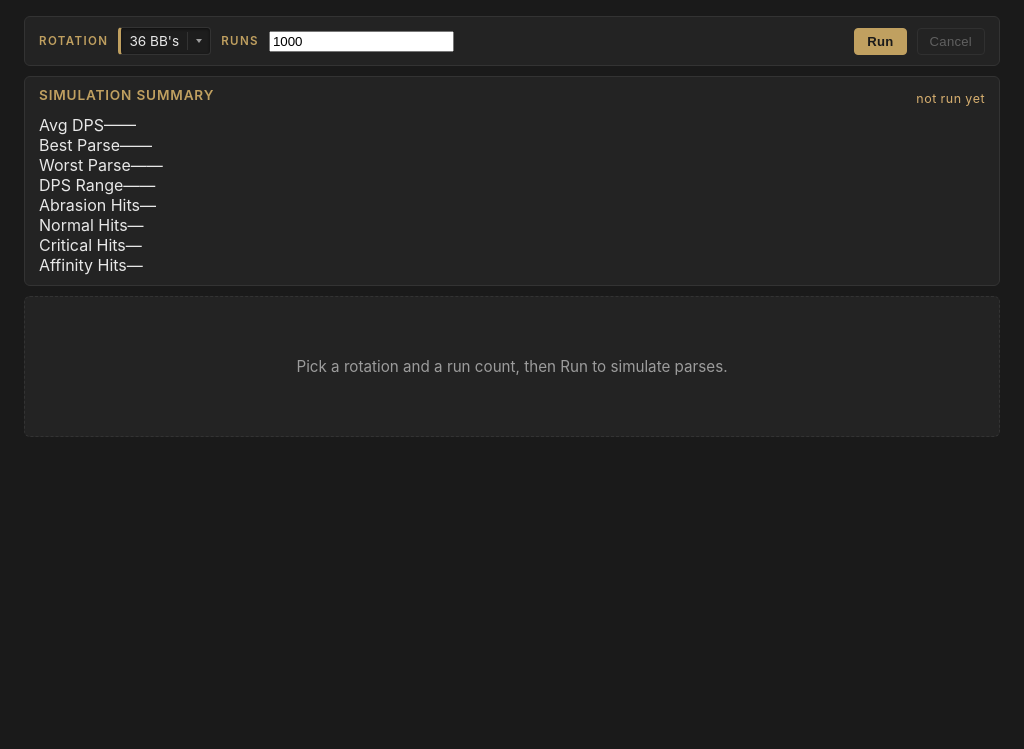
it: SimulationTab › warns that the result predates the current build once the rotation changes
Step 1. Click the button "Run" → (880, 41), box top-left (854, 28), bottom-right (907, 55)
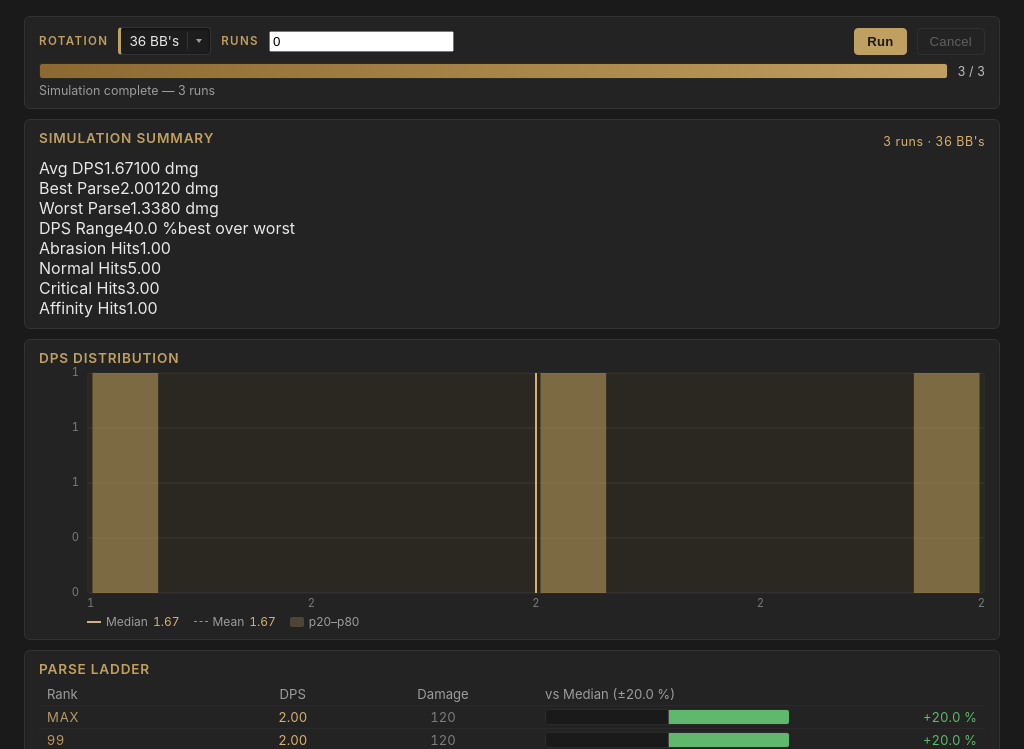
Expected: the text "Your build changed since this simulation — run it again" is not shown
Step 2. Click the dropdown named "Rotation" → (165, 41), box top-left (118, 27), bottom-right (211, 55)
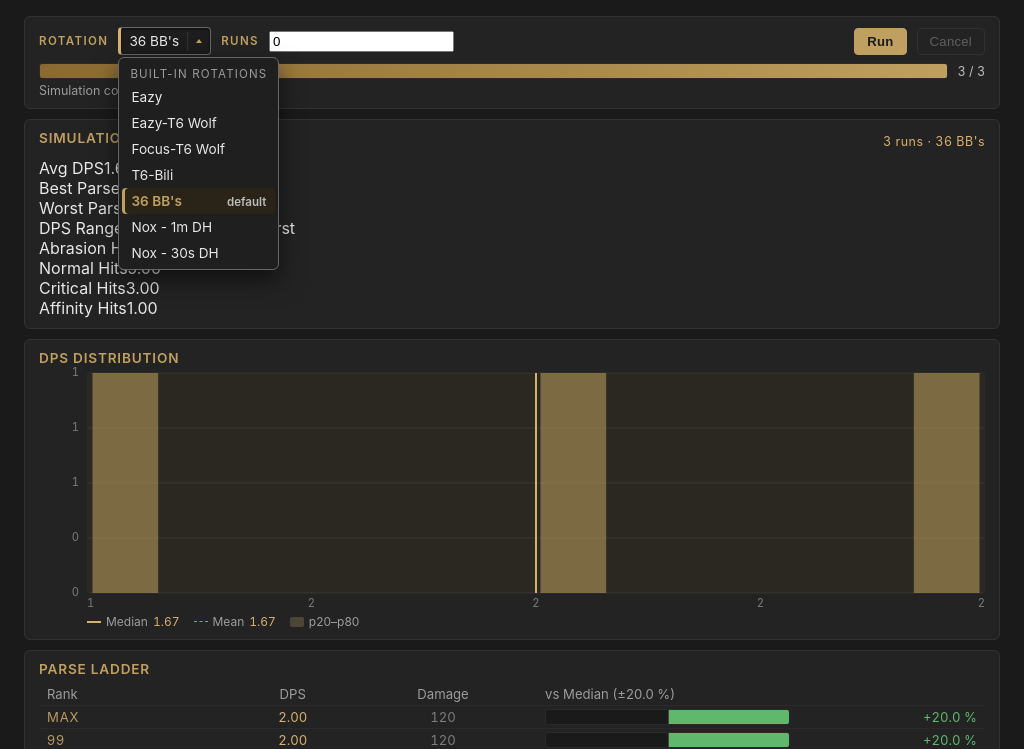
Step 3. Press the mouse on the option "Eazy" → (199, 97), box top-left (122, 84), bottom-right (275, 110)
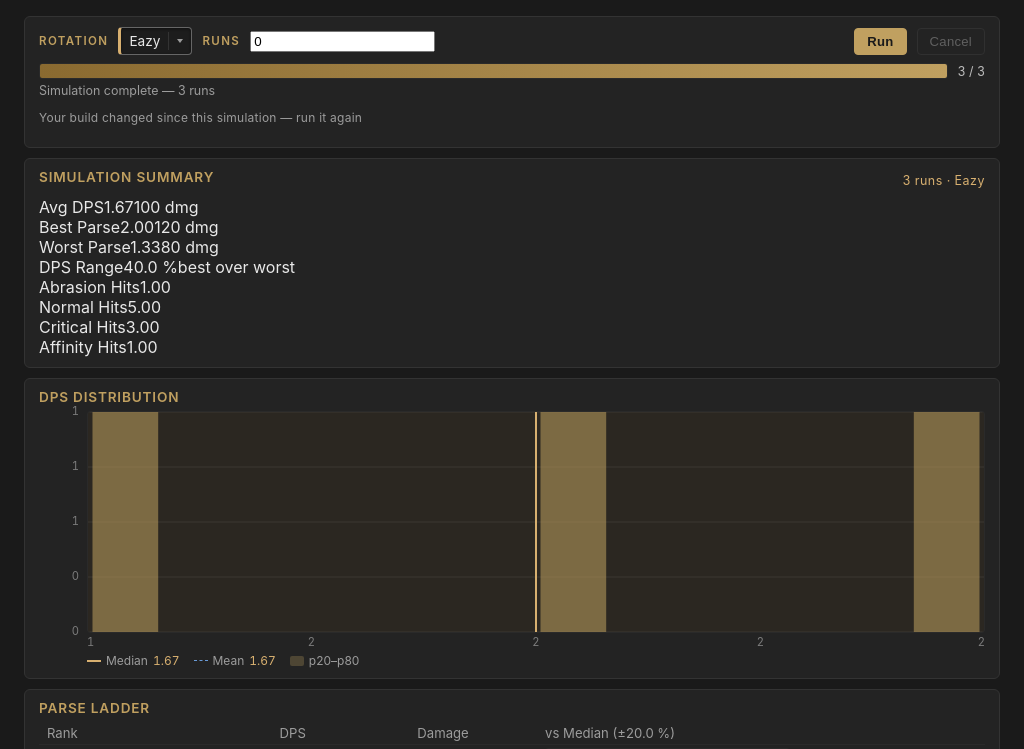
Result: the text "Your build changed since this simulation — run it again" is shown at top-left (39, 110), bottom-right (362, 125)
